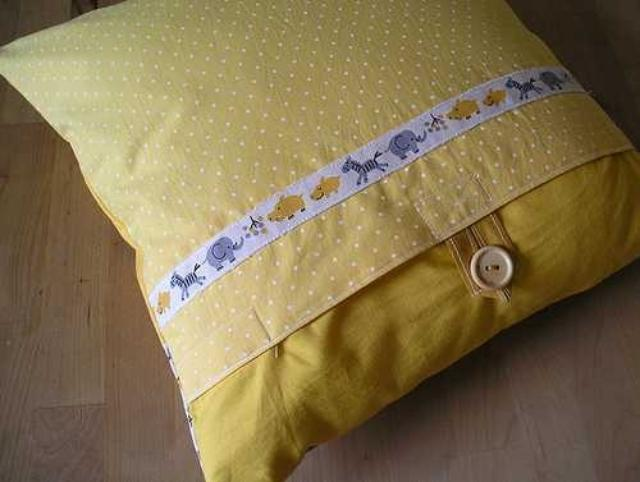pillow: (0, 0, 638, 482)
